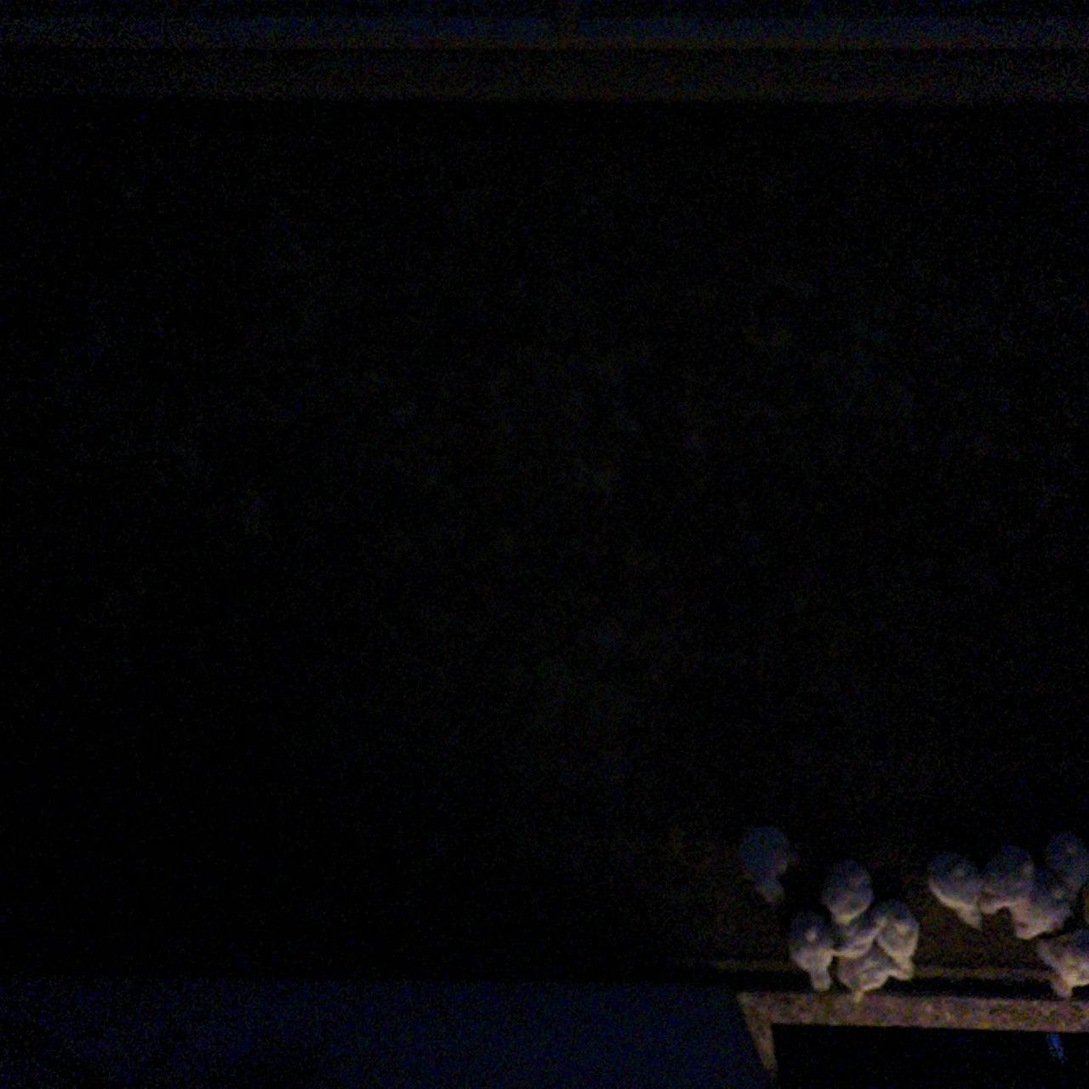chicken: (709, 812, 789, 898), (1009, 857, 1083, 939), (967, 847, 1040, 911), (1029, 928, 1089, 1004), (929, 851, 985, 927), (783, 917, 833, 1001), (868, 908, 922, 980), (836, 951, 901, 1010), (820, 858, 875, 920), (828, 907, 891, 959)
